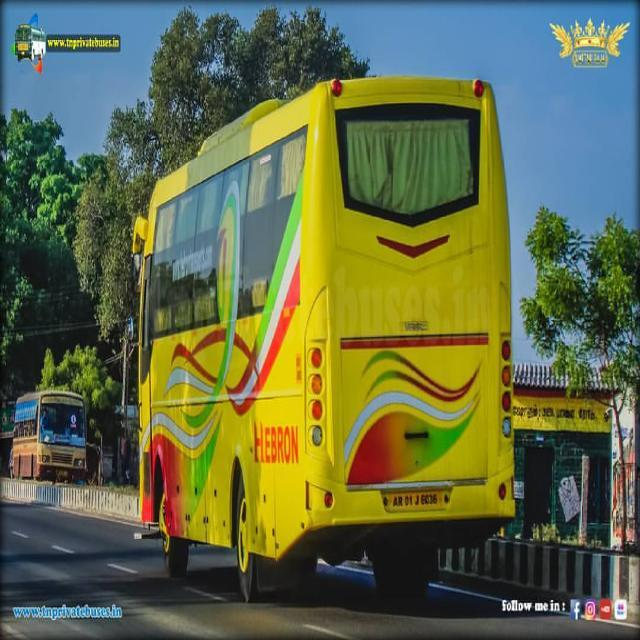Bus: (127, 72, 517, 610), (12, 389, 90, 479)
